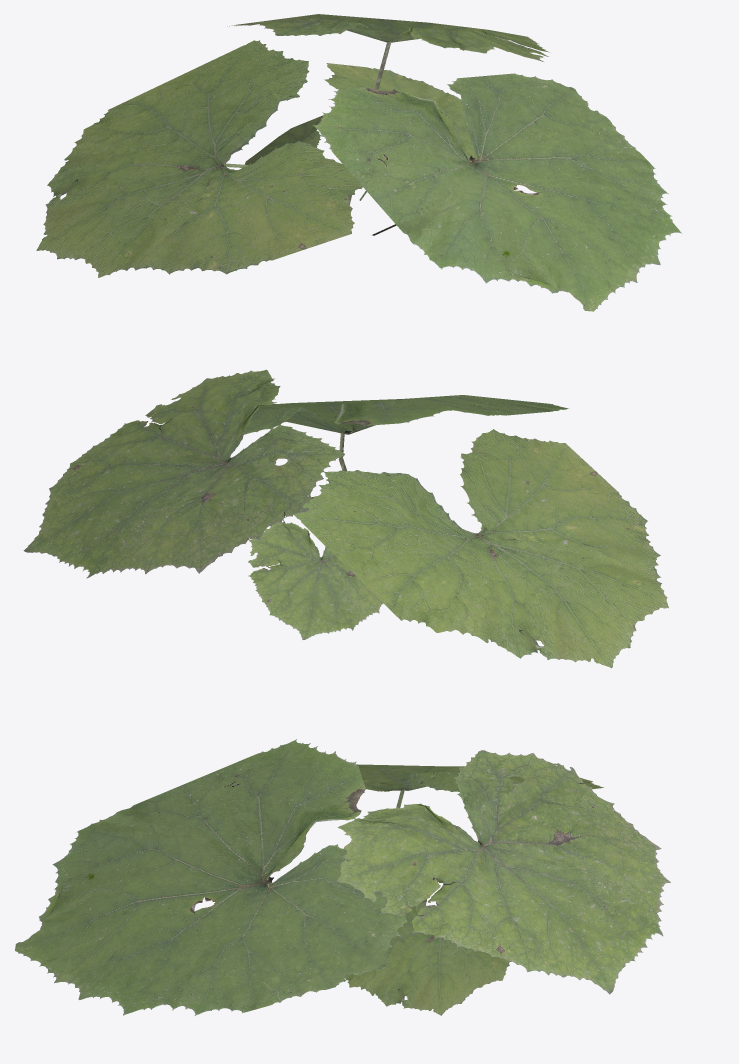
File: sm_Burdock_01_02.fbx
3 views of the same model, one above another, from view 1: azimuth 30°, elevation 25°; view 2: azimuth 150°, elevation 25°; view 3: azimuth 270°, elevation 25° (orthographic). The views are drawn at different scales.
Visible parts, largest first — view 1: sm_Burdock_01_02_LOD0; view 2: sm_Burdock_01_02_LOD0; view 3: sm_Burdock_01_02_LOD0.
Part boxes in pixels (x1=…): sm_Burdock_01_02_LOD0: x1=36, y1=14, x2=681, y2=311; sm_Burdock_01_02_LOD0: x1=23, y1=369, x2=668, y2=668; sm_Burdock_01_02_LOD0: x1=15, y1=739, x2=670, y2=1015.
Size of the model in its own units: 127 by 130 by 38.23.
